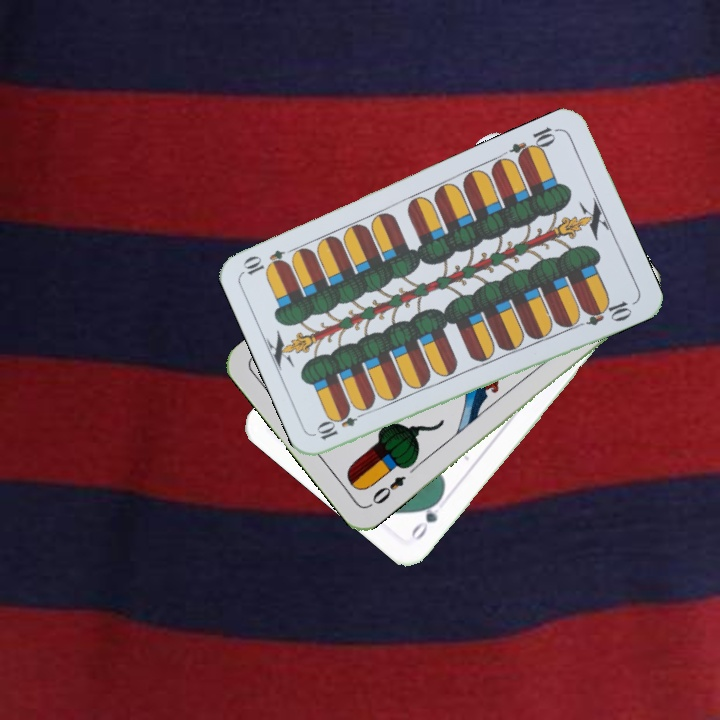E10: (506, 123, 562, 164), (313, 405, 370, 443)
EO: (365, 471, 409, 510)
GO: (407, 491, 446, 544)
